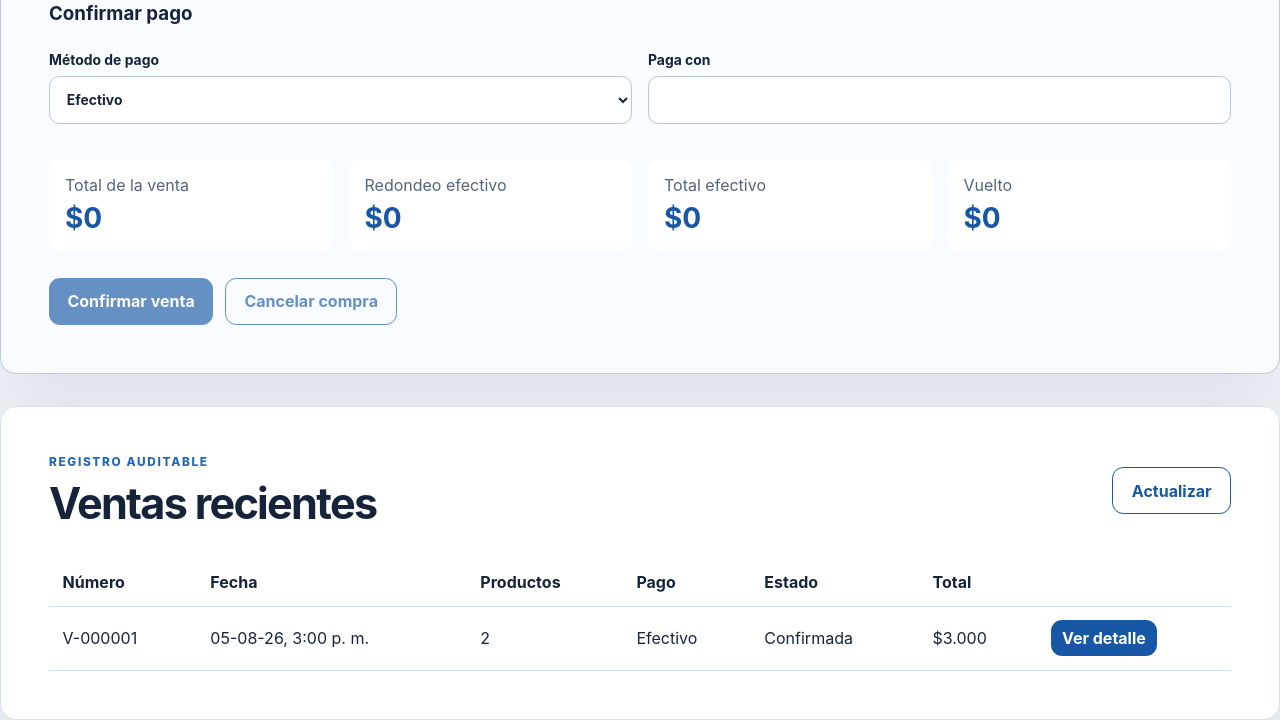
SaleWorkspace › shows the administrator sale log and its product detail
(page scrolled)
Expected: the heading "Ventas recientes" is shown, [49,481,376,527]
Expected: the text "V-000001" is shown, [49,606,197,671]
Step 1. Click the button "Ver detalle" → (1104, 638), box [1051,620,1157,656]
(page scrolled)
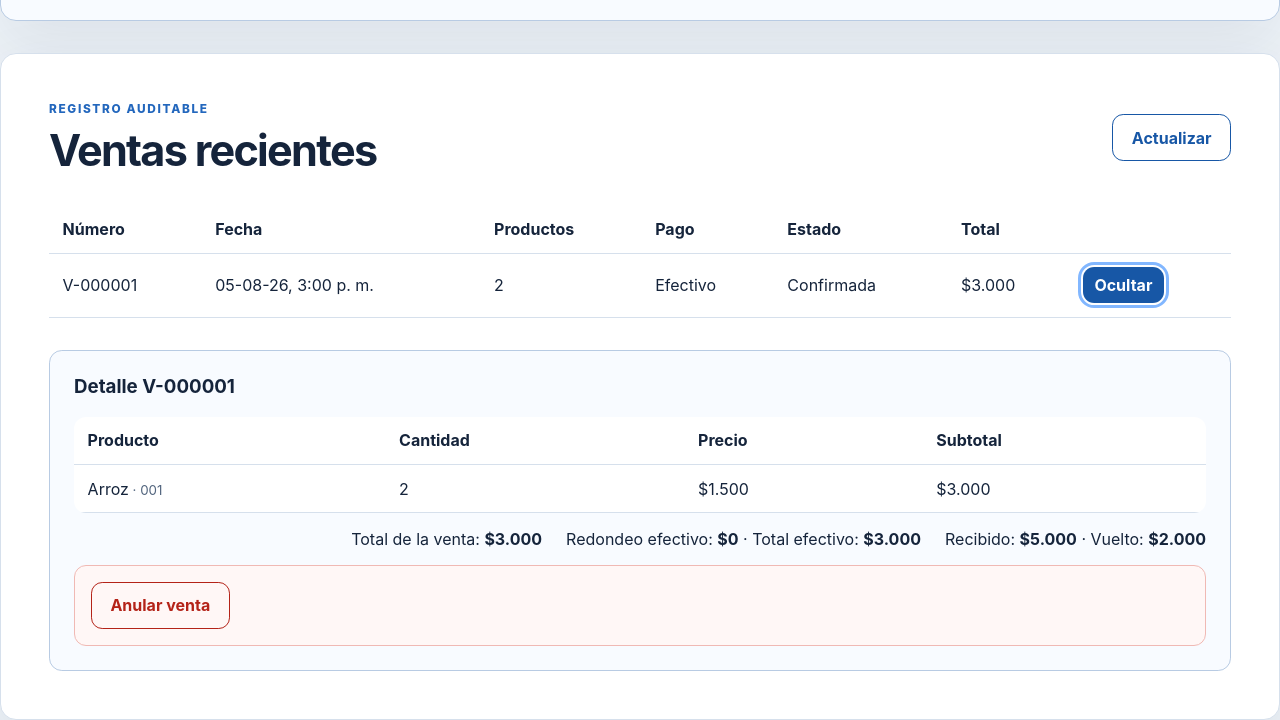
Expected: the text "Arroz" is shown, [88,479,129,499]
Expected: the text "$3.000" is shown 3 times, [923,464,1206,513]; [484,529,542,549]; [863,529,921,549]
